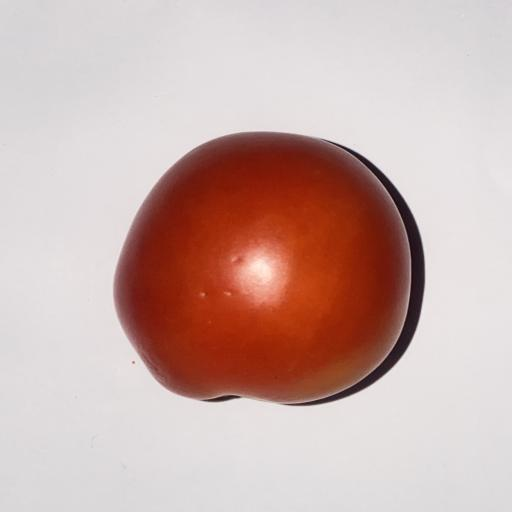ripe: (114, 132, 411, 403)
